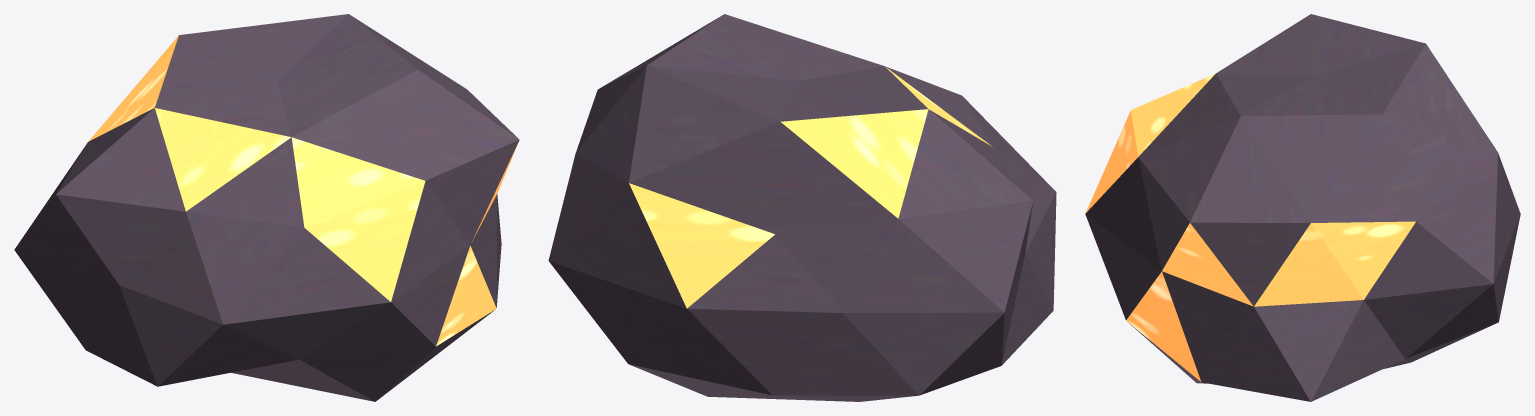
The model's file is AT_MeteorRock.fbx.
3 renders of one model, left to right at view 1: azimuth 30°, elevation 25°; view 2: azimuth 150°, elevation 25°; view 3: azimuth 270°, elevation 25°, orthographic. The views are drawn at different scales.
Parts seen in each view (by area): view 1: Rock; view 2: Rock; view 3: Rock.
Part boxes in pixels (x1,y1,x2,y2): Rock: [14, 14, 519, 401]; Rock: [548, 14, 1056, 401]; Rock: [1085, 14, 1520, 401].
Bounding box in the file's own units: 3.49 × 2.32 × 2.92.
1 material, 1 textured.
